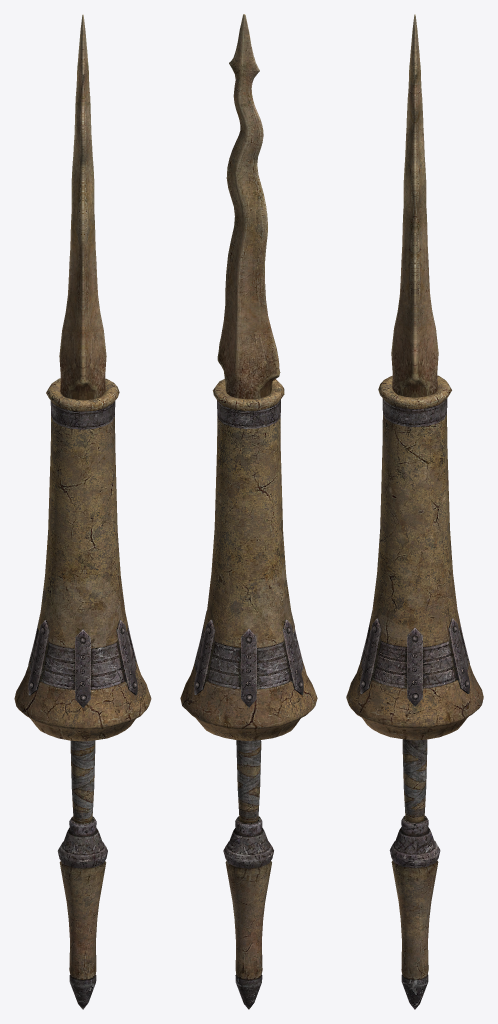
Rendered from bs_lan005.obj.
3 renders of one model, left to right at view 1: azimuth 90°, elevation 25°; view 2: azimuth 150°, elevation 25°; view 3: azimuth 270°, elevation 25°, orthographic.
Visible parts, largest first — view 1: bs_lan005_002_LOD_1, bs_lan005_001_LOD_1, bs_lan005_000_LOD_1; view 2: bs_lan005_002_LOD_1, bs_lan005_001_LOD_1, bs_lan005_000_LOD_1; view 3: bs_lan005_002_LOD_1, bs_lan005_001_LOD_1, bs_lan005_000_LOD_1.
Part boxes in pixels (x1,y1,x2,y2): bs_lan005_002_LOD_1: (14, 378, 151, 741); bs_lan005_001_LOD_1: (59, 14, 106, 400); bs_lan005_000_LOD_1: (57, 740, 107, 1009); bs_lan005_002_LOD_1: (180, 379, 317, 740); bs_lan005_001_LOD_1: (217, 14, 280, 399); bs_lan005_000_LOD_1: (223, 740, 273, 1009); bs_lan005_002_LOD_1: (346, 375, 483, 740); bs_lan005_001_LOD_1: (391, 14, 438, 397); bs_lan005_000_LOD_1: (389, 739, 440, 1009).
Size of the model in its own units: 44.78 by 360 by 44.96.
